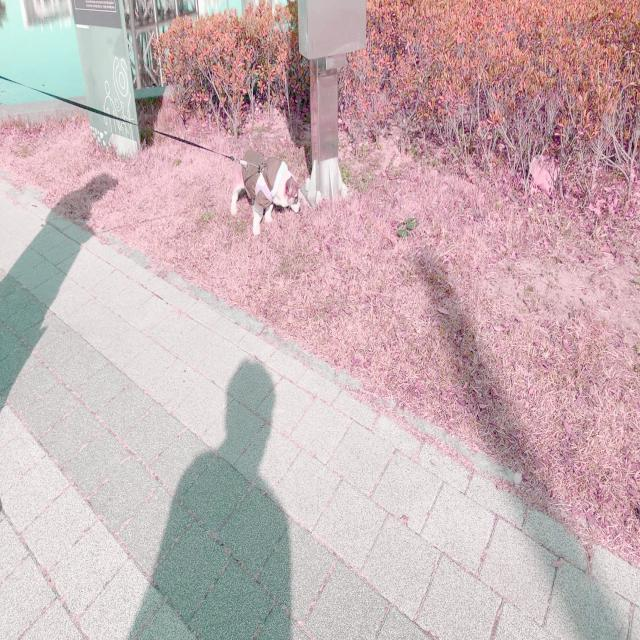Dog: (230, 151, 301, 237)
